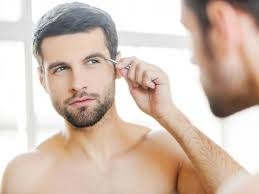Indian_Male: (43, 22, 121, 117)
